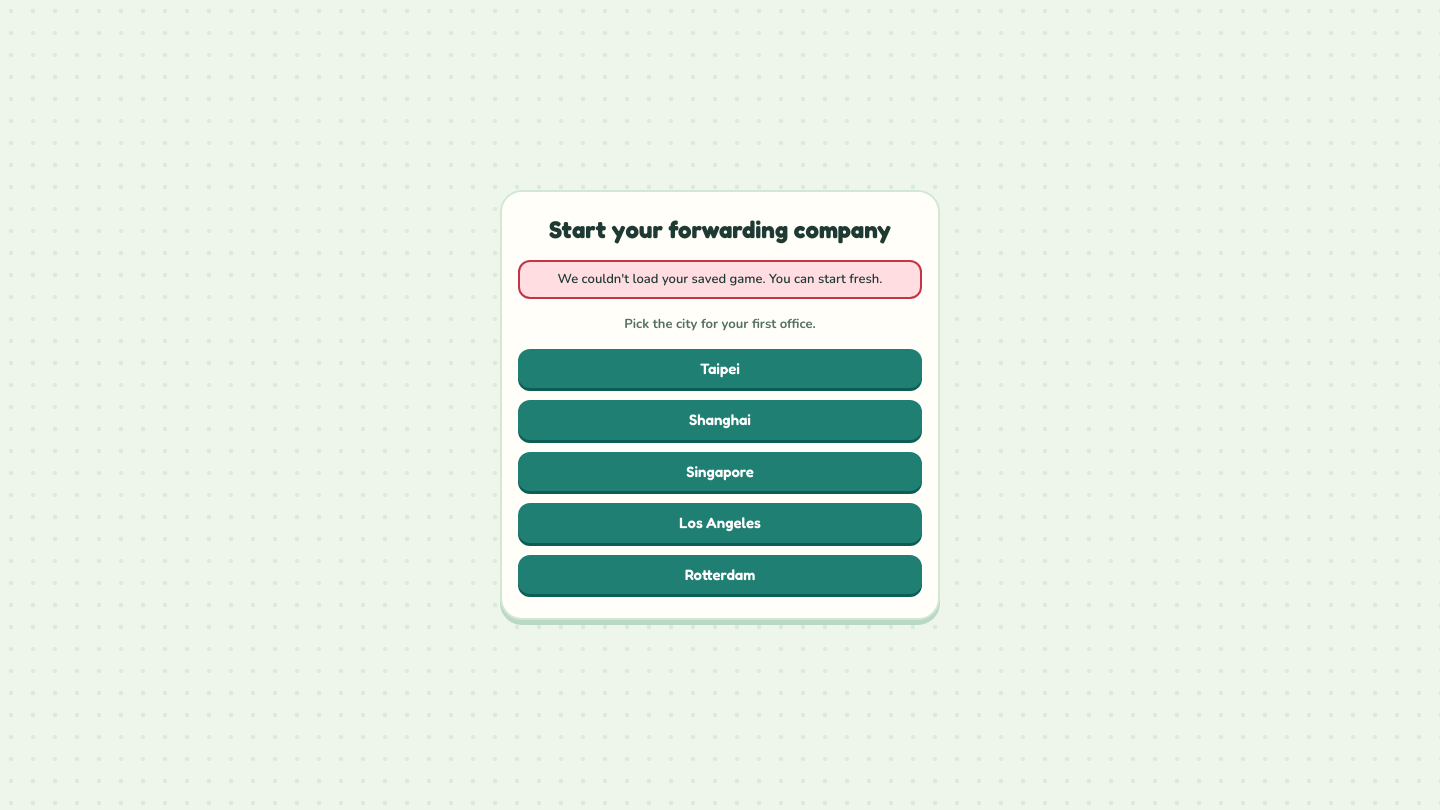
App › a stored save that cannot be loaded › when the backup could not be written but saving still works › Escape cancels too
Click the button "Shanghai" at point(720, 420), box x1=518 y1=400 x2=922 y2=440
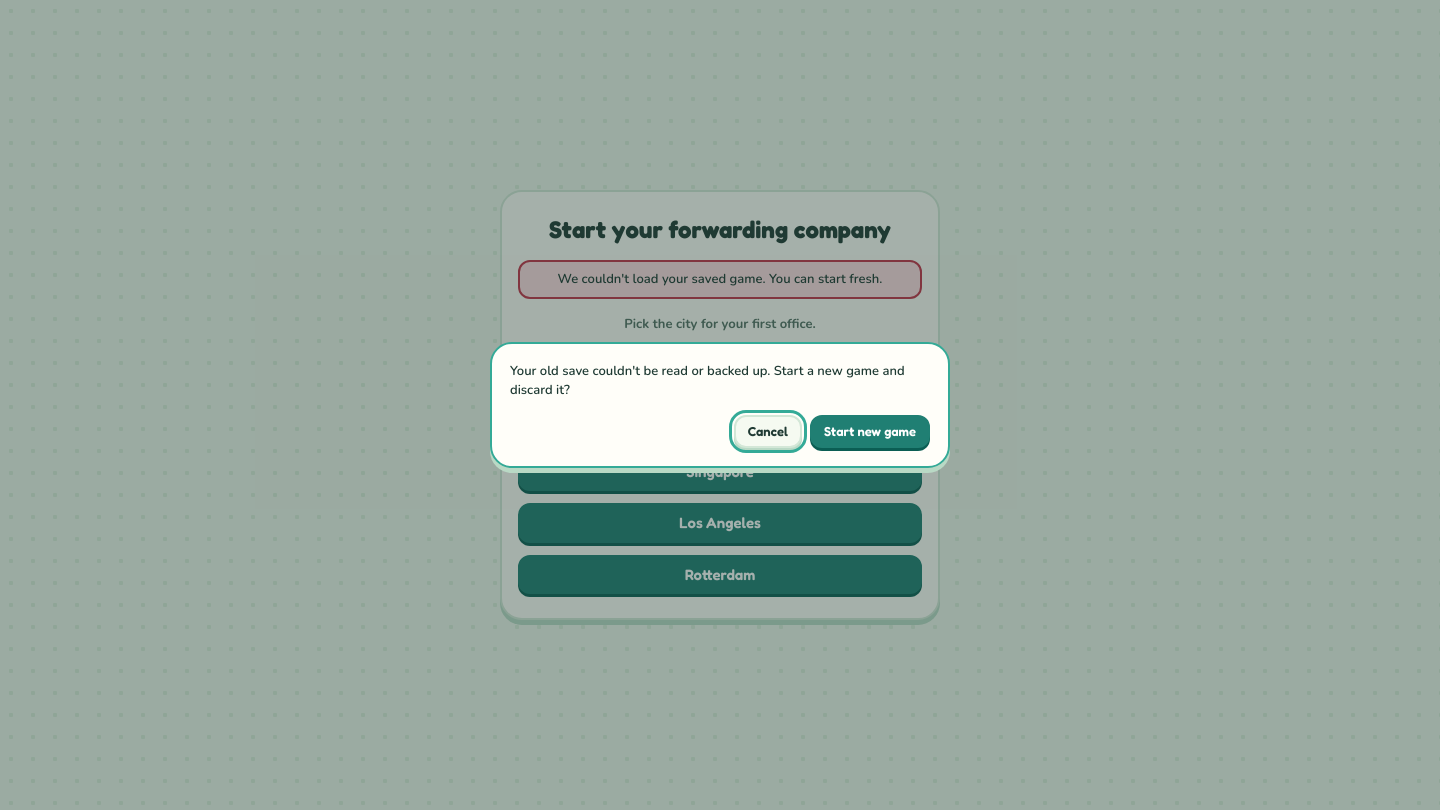
Press Escape
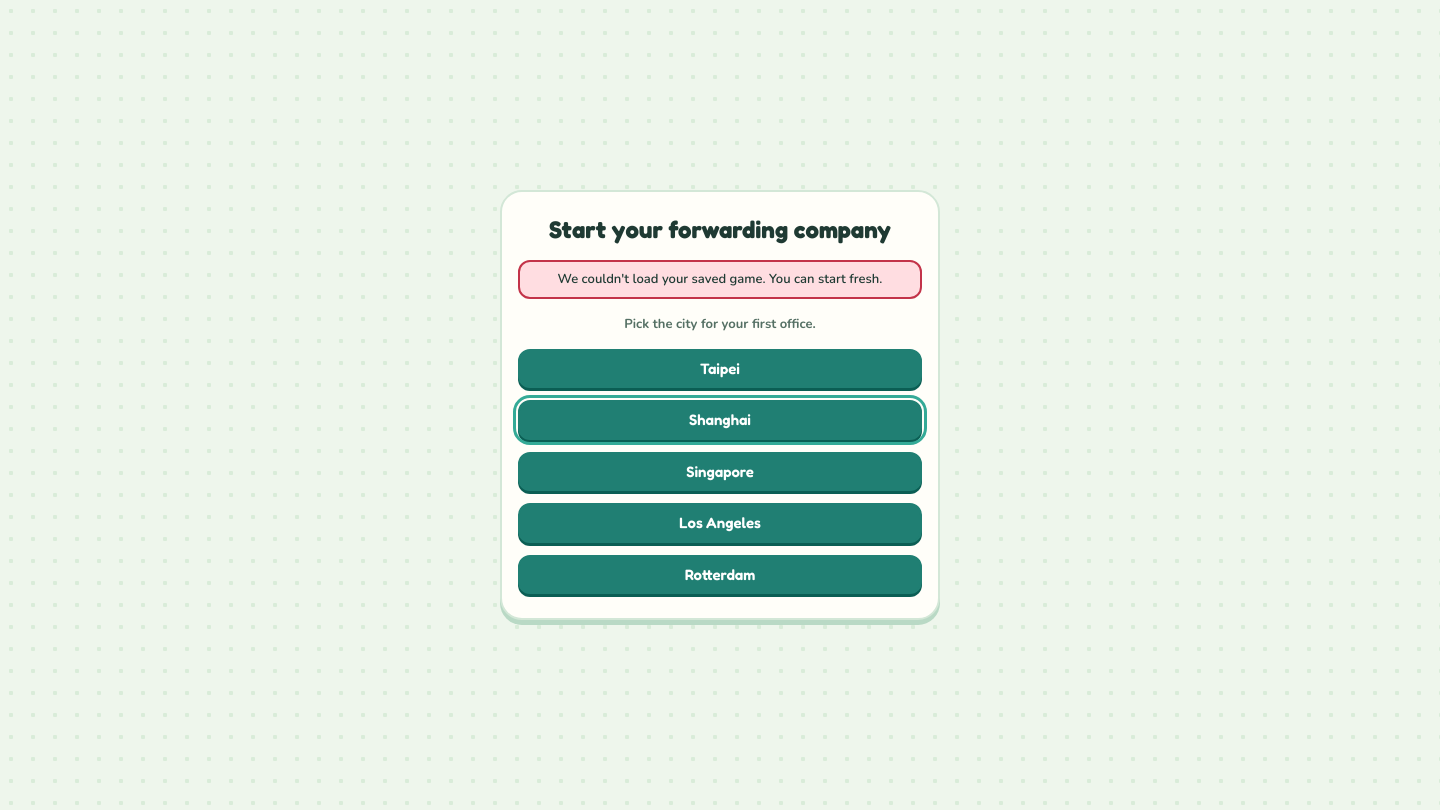
Now the dialog is gone
